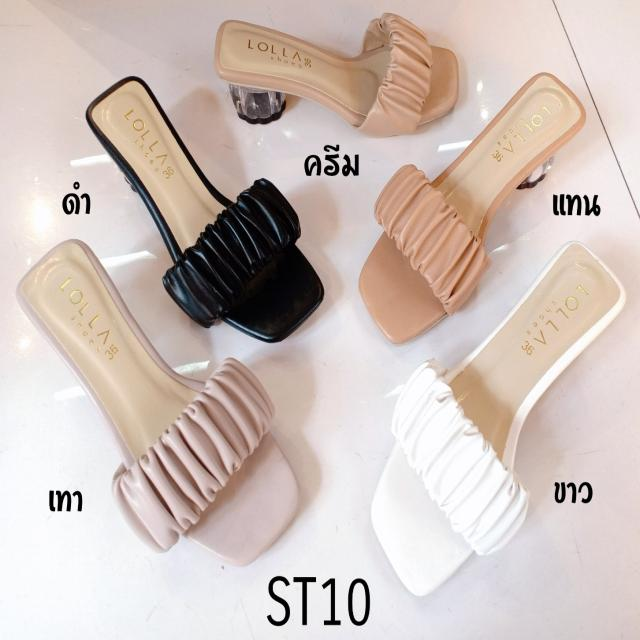black: (84, 80, 317, 332)
cream: (214, 15, 460, 138)
grey: (26, 244, 296, 554)
tan: (362, 74, 578, 340)
white: (370, 248, 624, 600)
